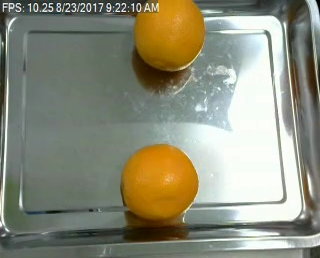Orange: (119, 143, 198, 220), (133, 1, 205, 72)
